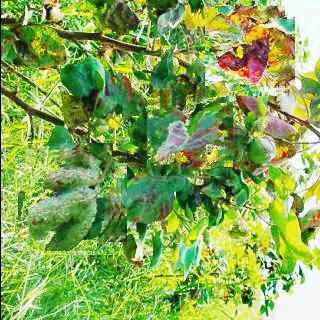blight: (147, 92, 231, 176), (208, 10, 290, 92)
leaf spot: (17, 147, 123, 251)
